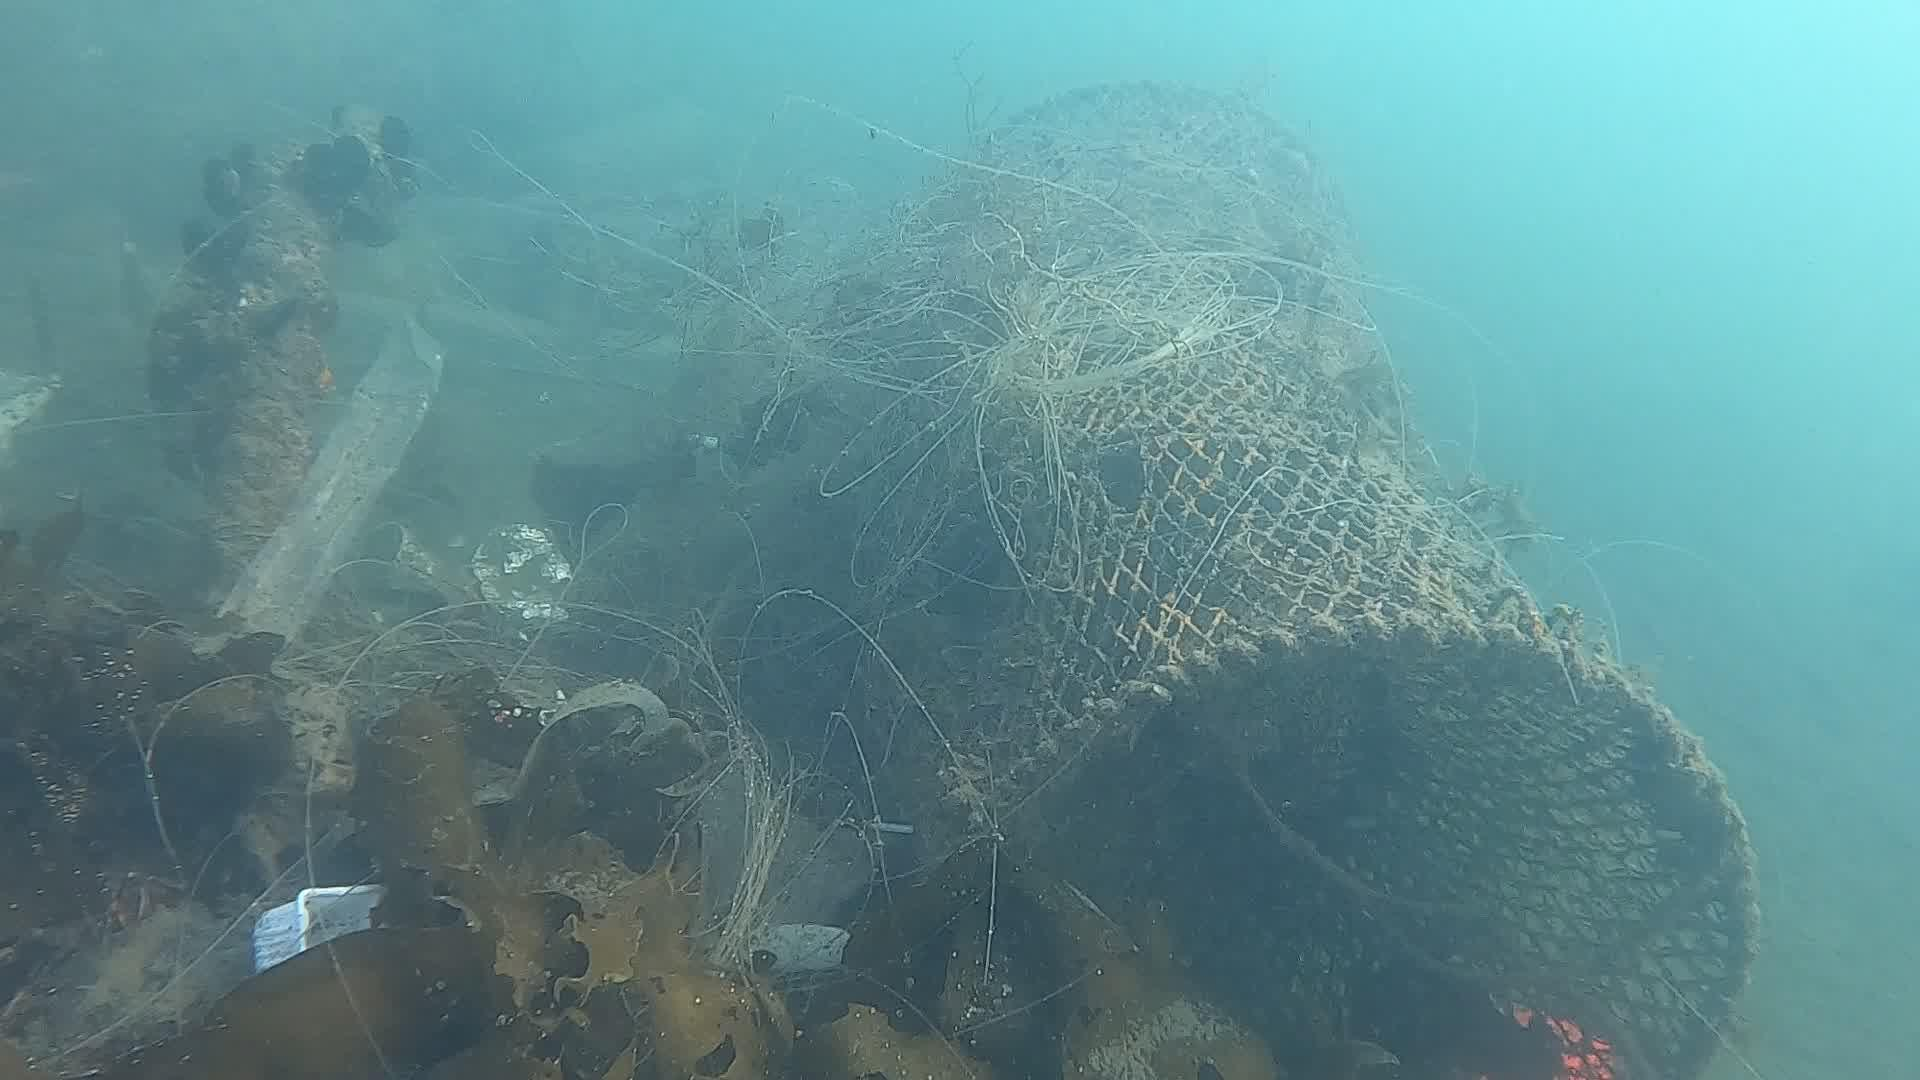spring fish trap: (835, 73, 1762, 1080)
